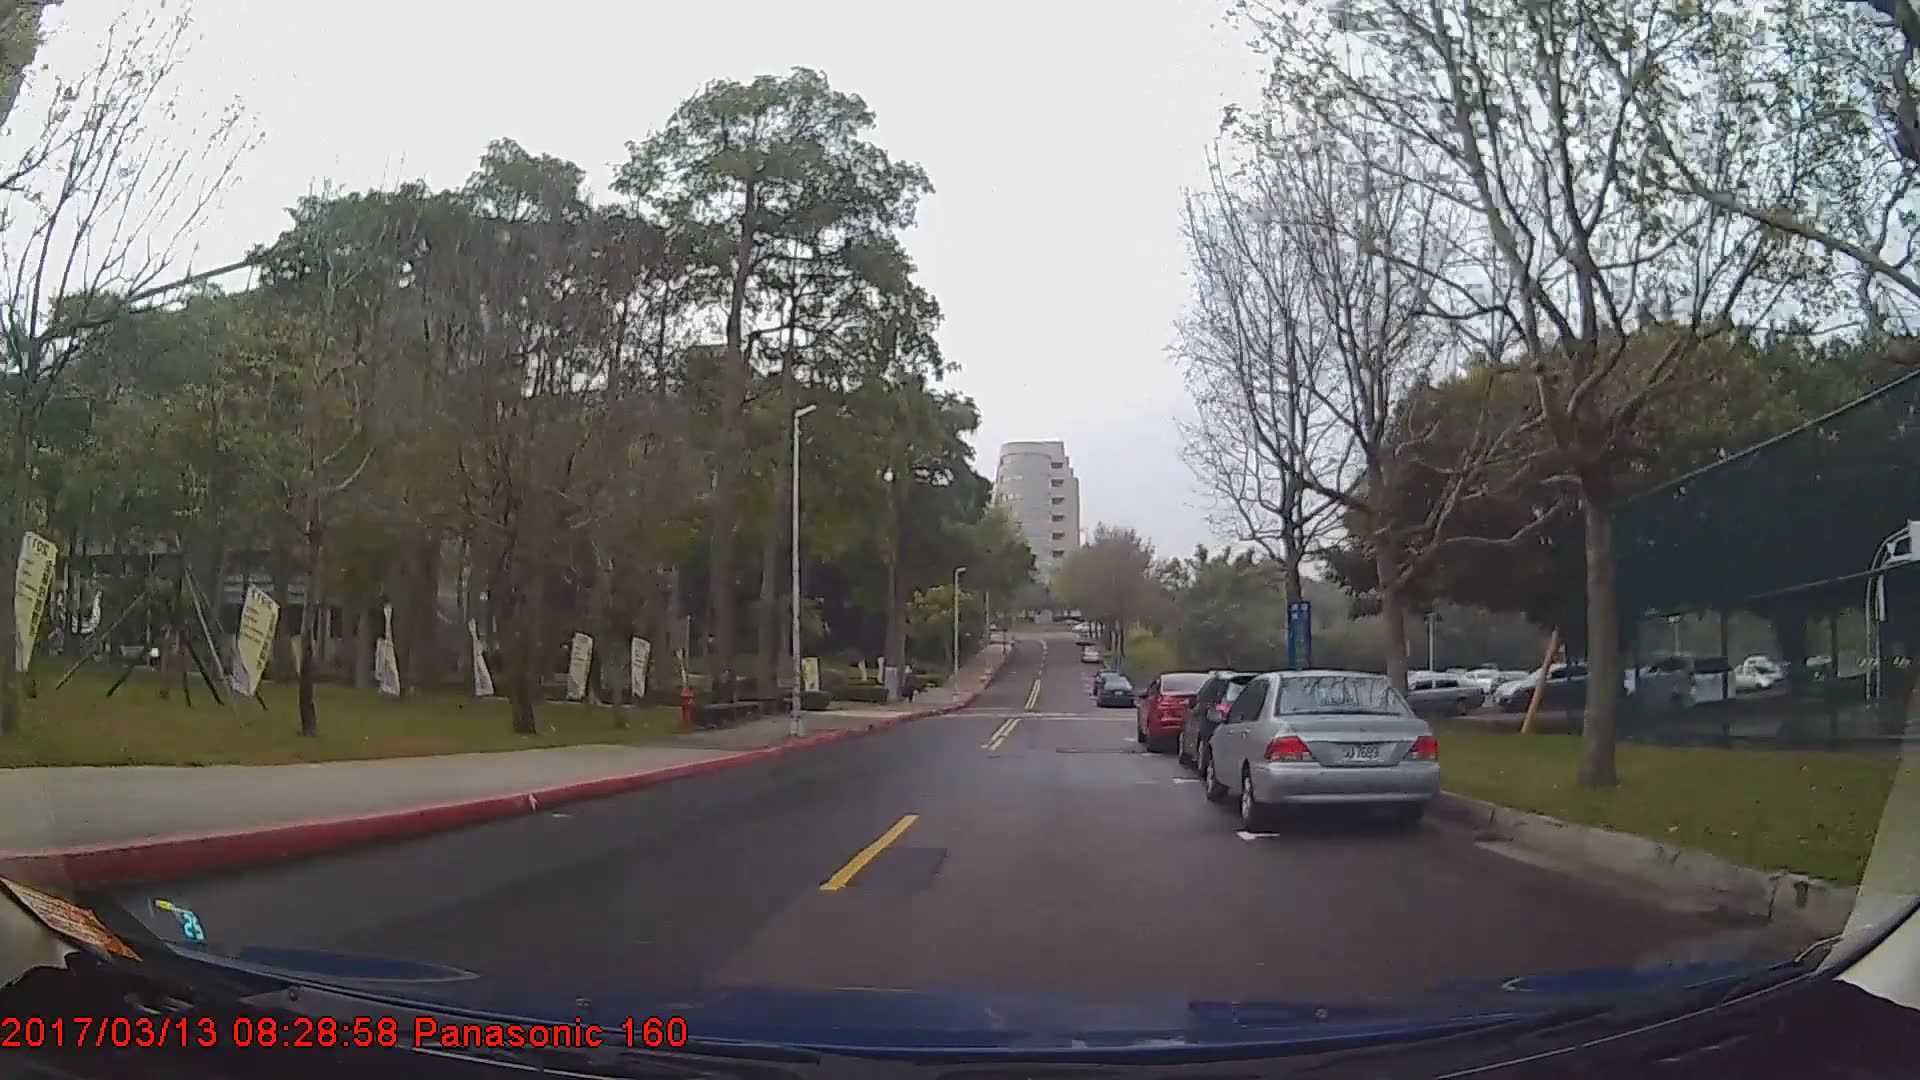vehicle: (1204, 667, 1443, 828), (1135, 667, 1233, 752), (1626, 653, 1735, 713), (1491, 661, 1618, 712), (1389, 667, 1481, 719), (1096, 674, 1133, 709)
